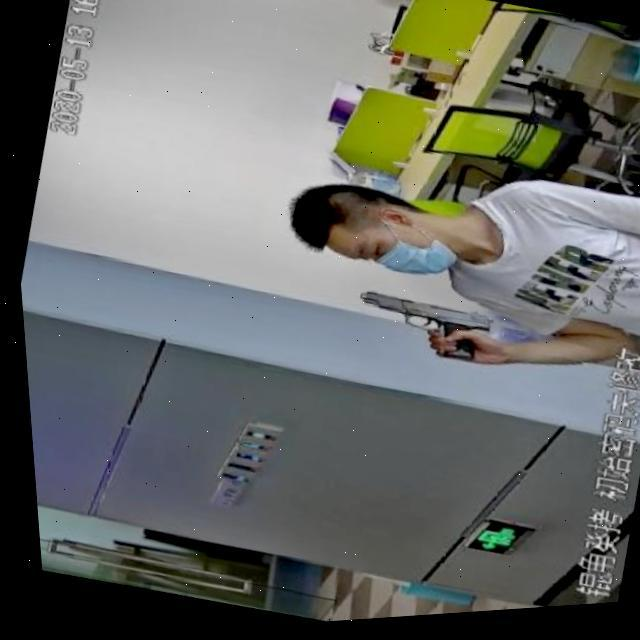gun: (331, 274, 498, 389)
